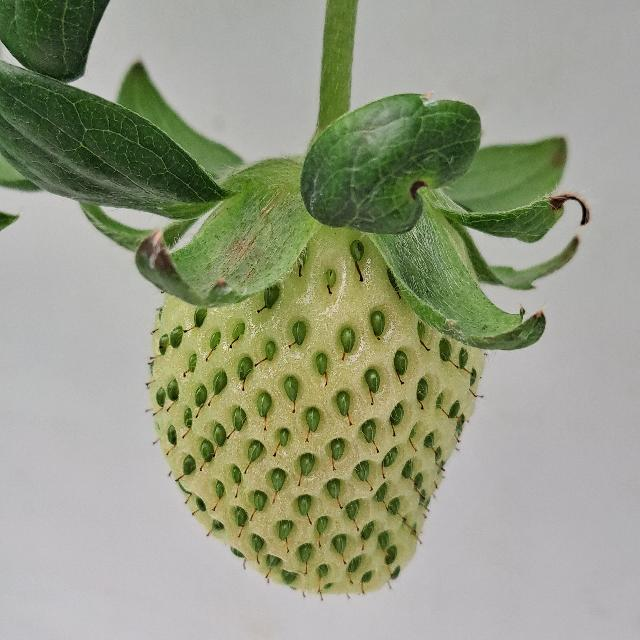Health_25: (148, 190, 486, 594)
